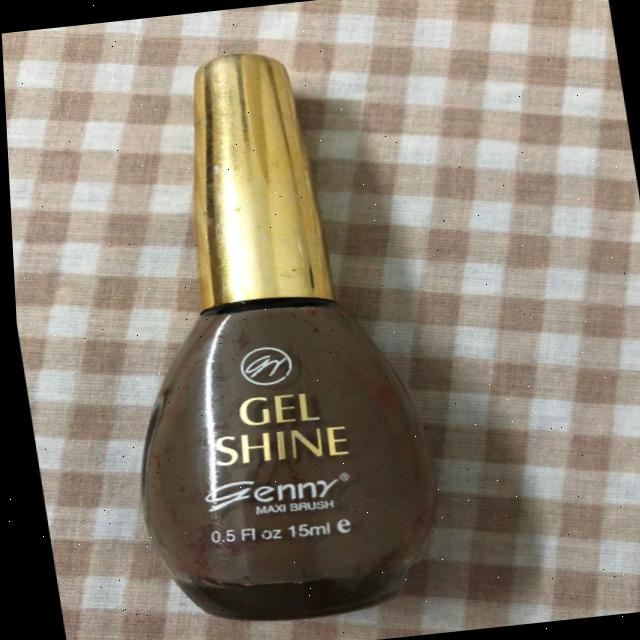nail polish: (62, 8, 451, 640)
